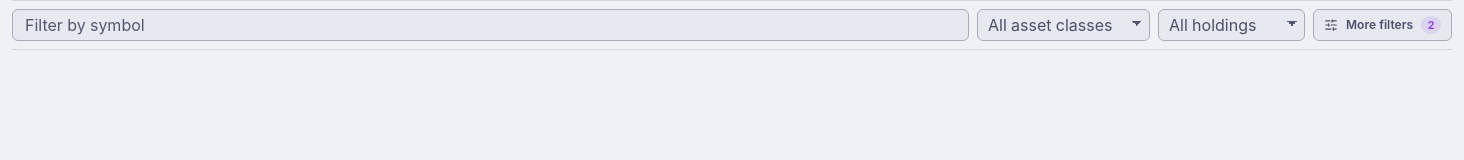
Test: discloses secondary portfolio filters locally with an active count
The image size is (1464, 160).
Click the button with aria-label "More filters · 2 active filters".
click(1382, 25)  # box top-left (1313, 9), bottom-right (1452, 41)
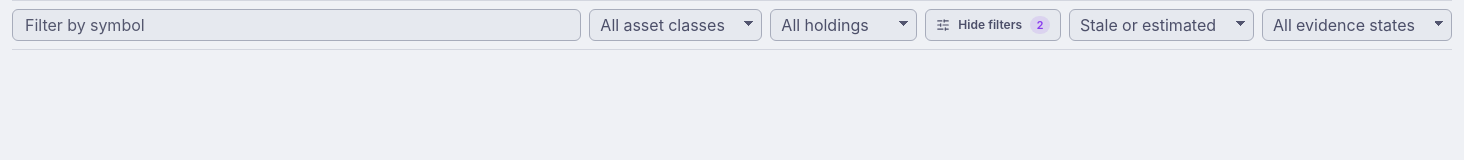
Result: the button named "More filters · 2 active filters" is expanded at top-left (925, 9), bottom-right (1061, 41)
